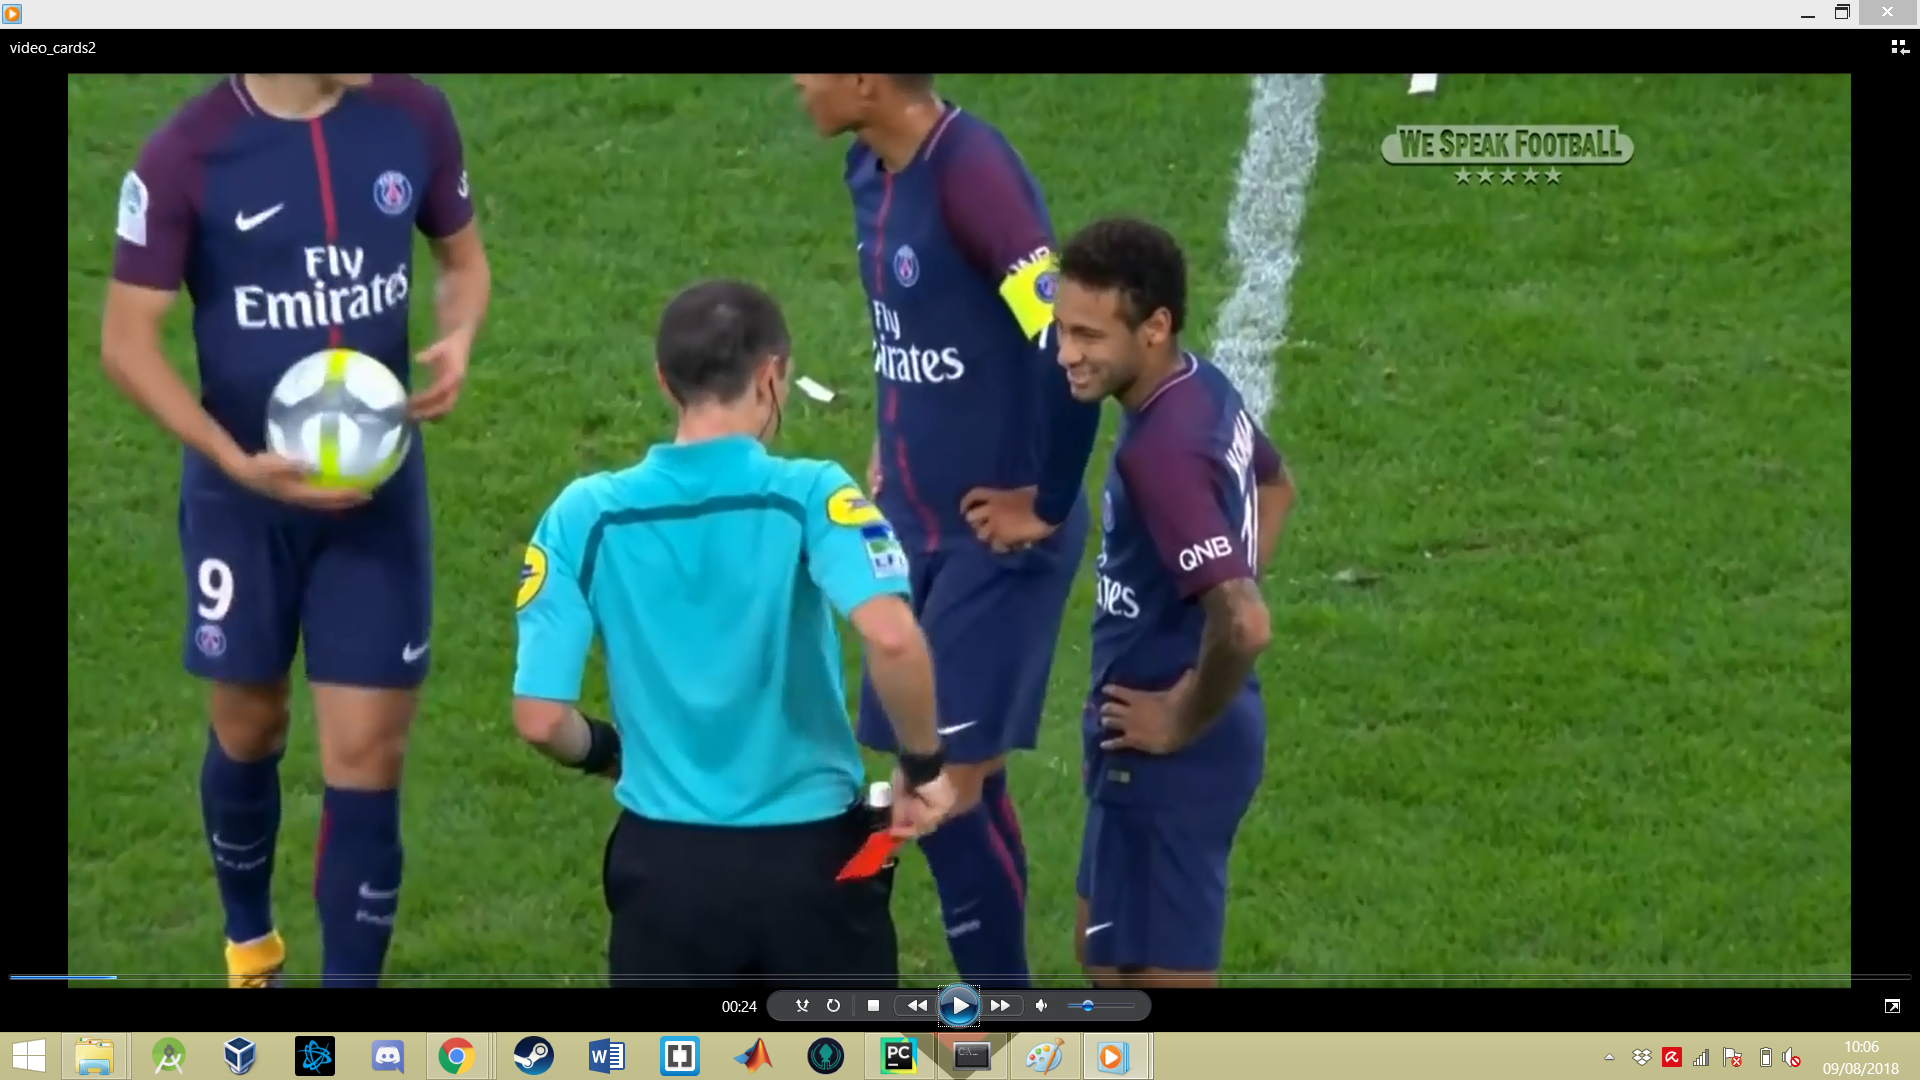red_card: (843, 769, 955, 898)
